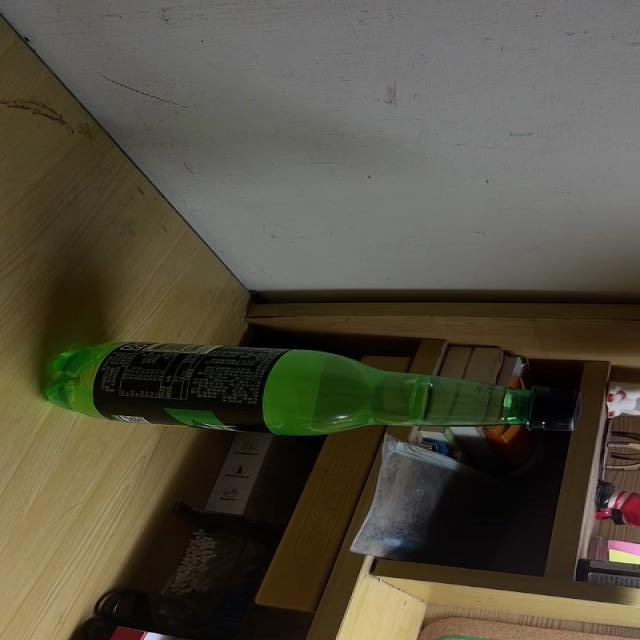Mountain-Dew: (40, 342, 579, 434)
